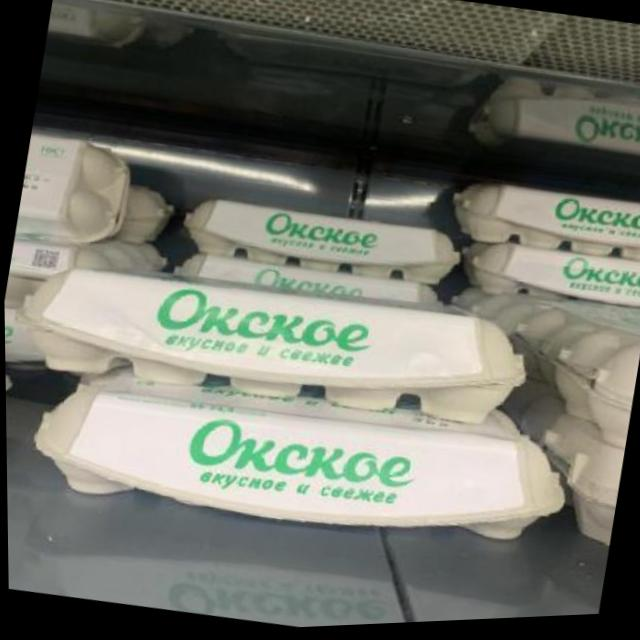Egg: (21, 343, 577, 582), (15, 238, 534, 452), (174, 180, 464, 300), (441, 171, 640, 277), (449, 233, 640, 324)
